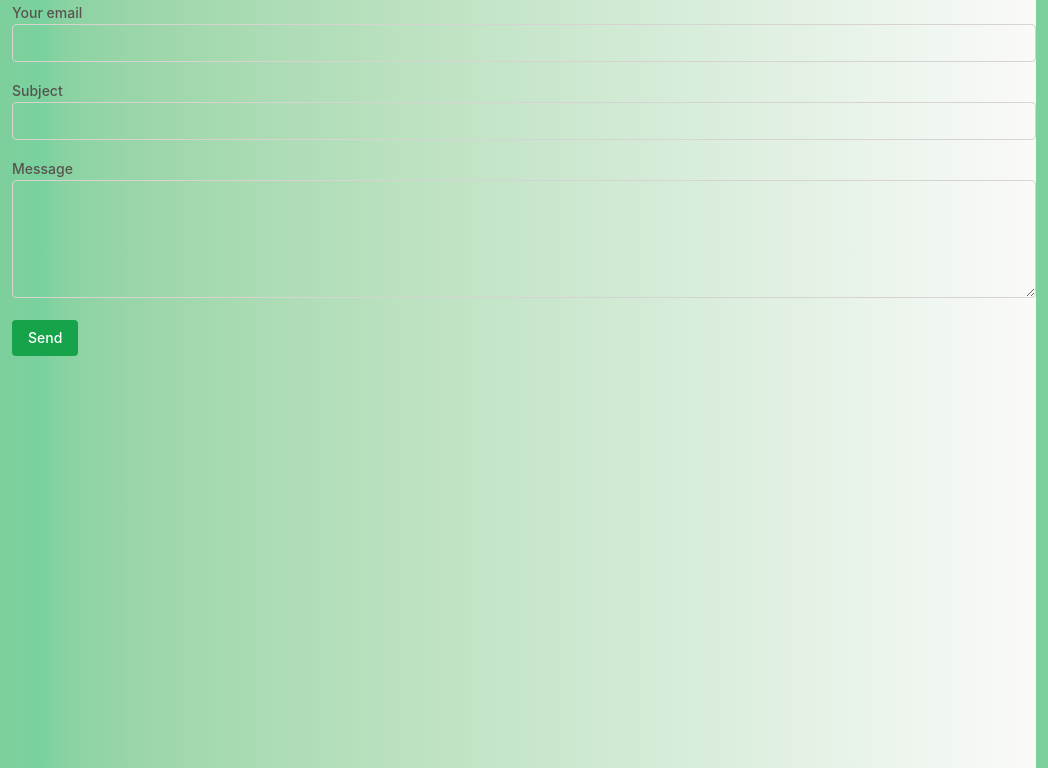
Test: ContactForm › shows an error message when the request fails
This screenshot has width=1048, height=768.
Type "visitor@example.com" into the field labelled "Your email" at (524,43), box [12, 24, 1036, 62]
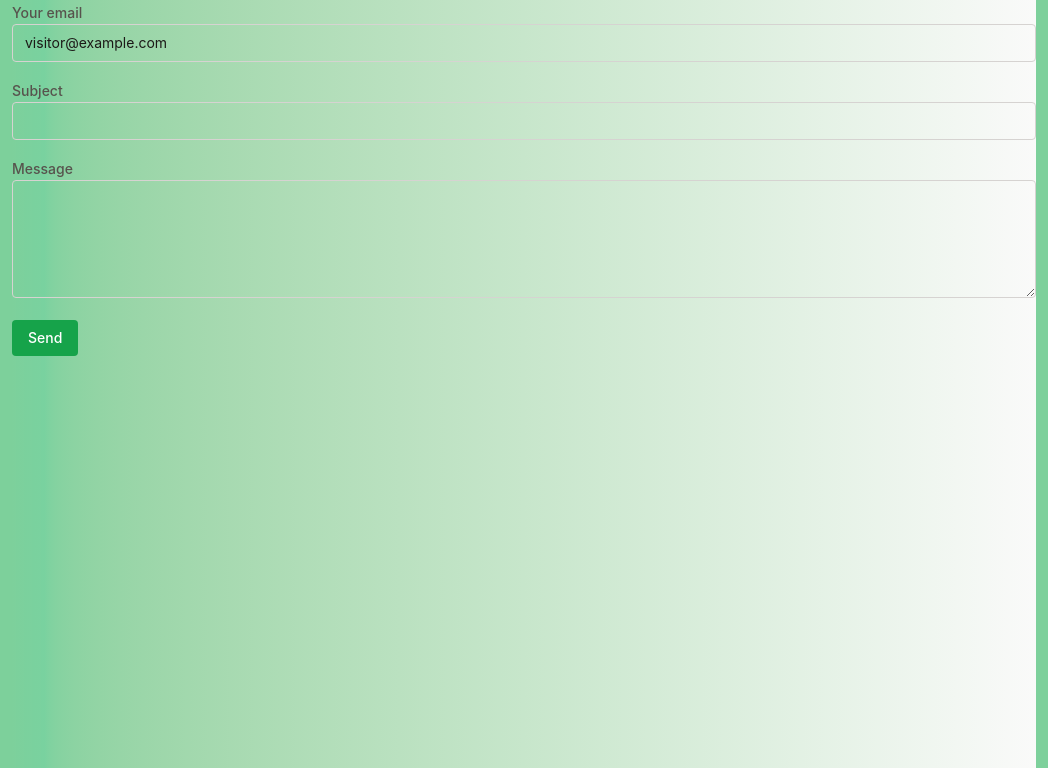
Type "Hello" into the field labelled "Subject" at (524,121), box [12, 102, 1036, 140]
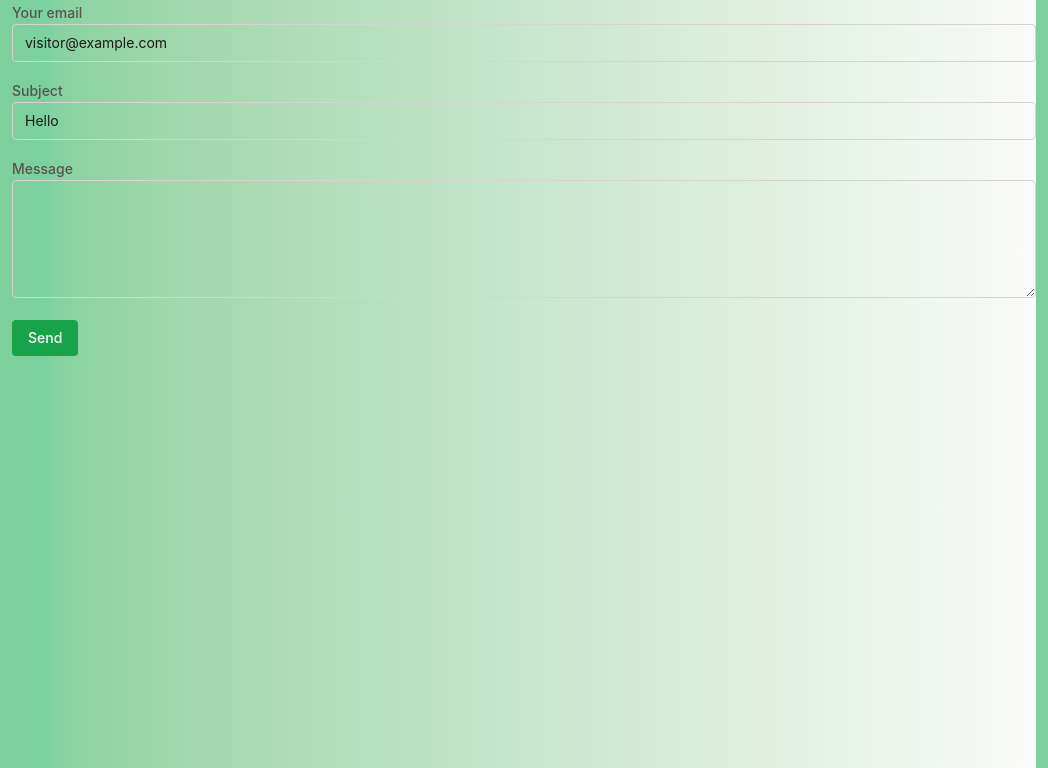
Type "Hi there" into the text box labelled "Message" at (524,239), box [12, 180, 1036, 298]
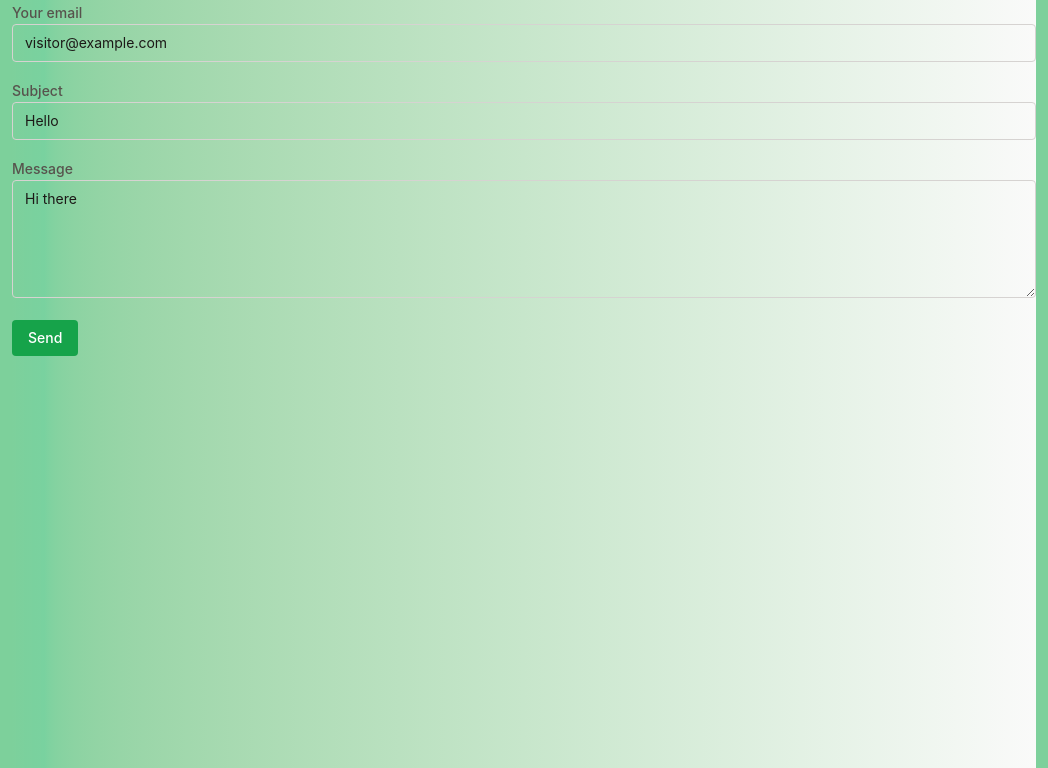
Click the button "Send" at (45,338), box [12, 320, 78, 356]
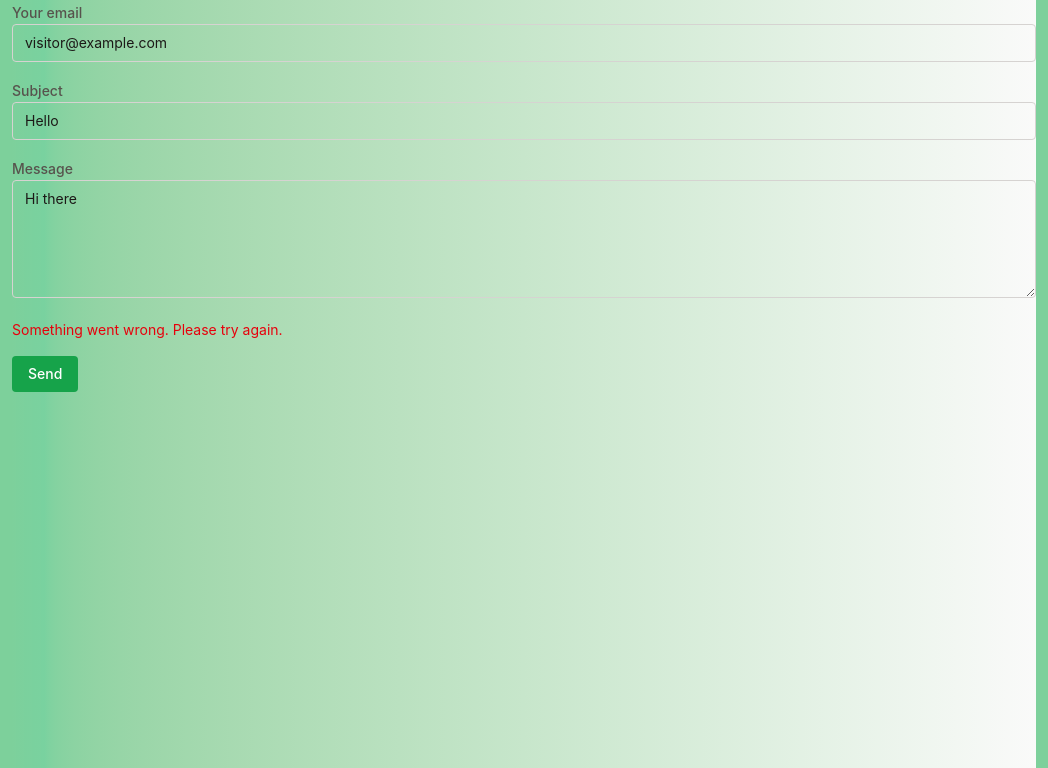
Expected: the text "Something went wrong. Please try again." is shown, [12, 321, 283, 338]
